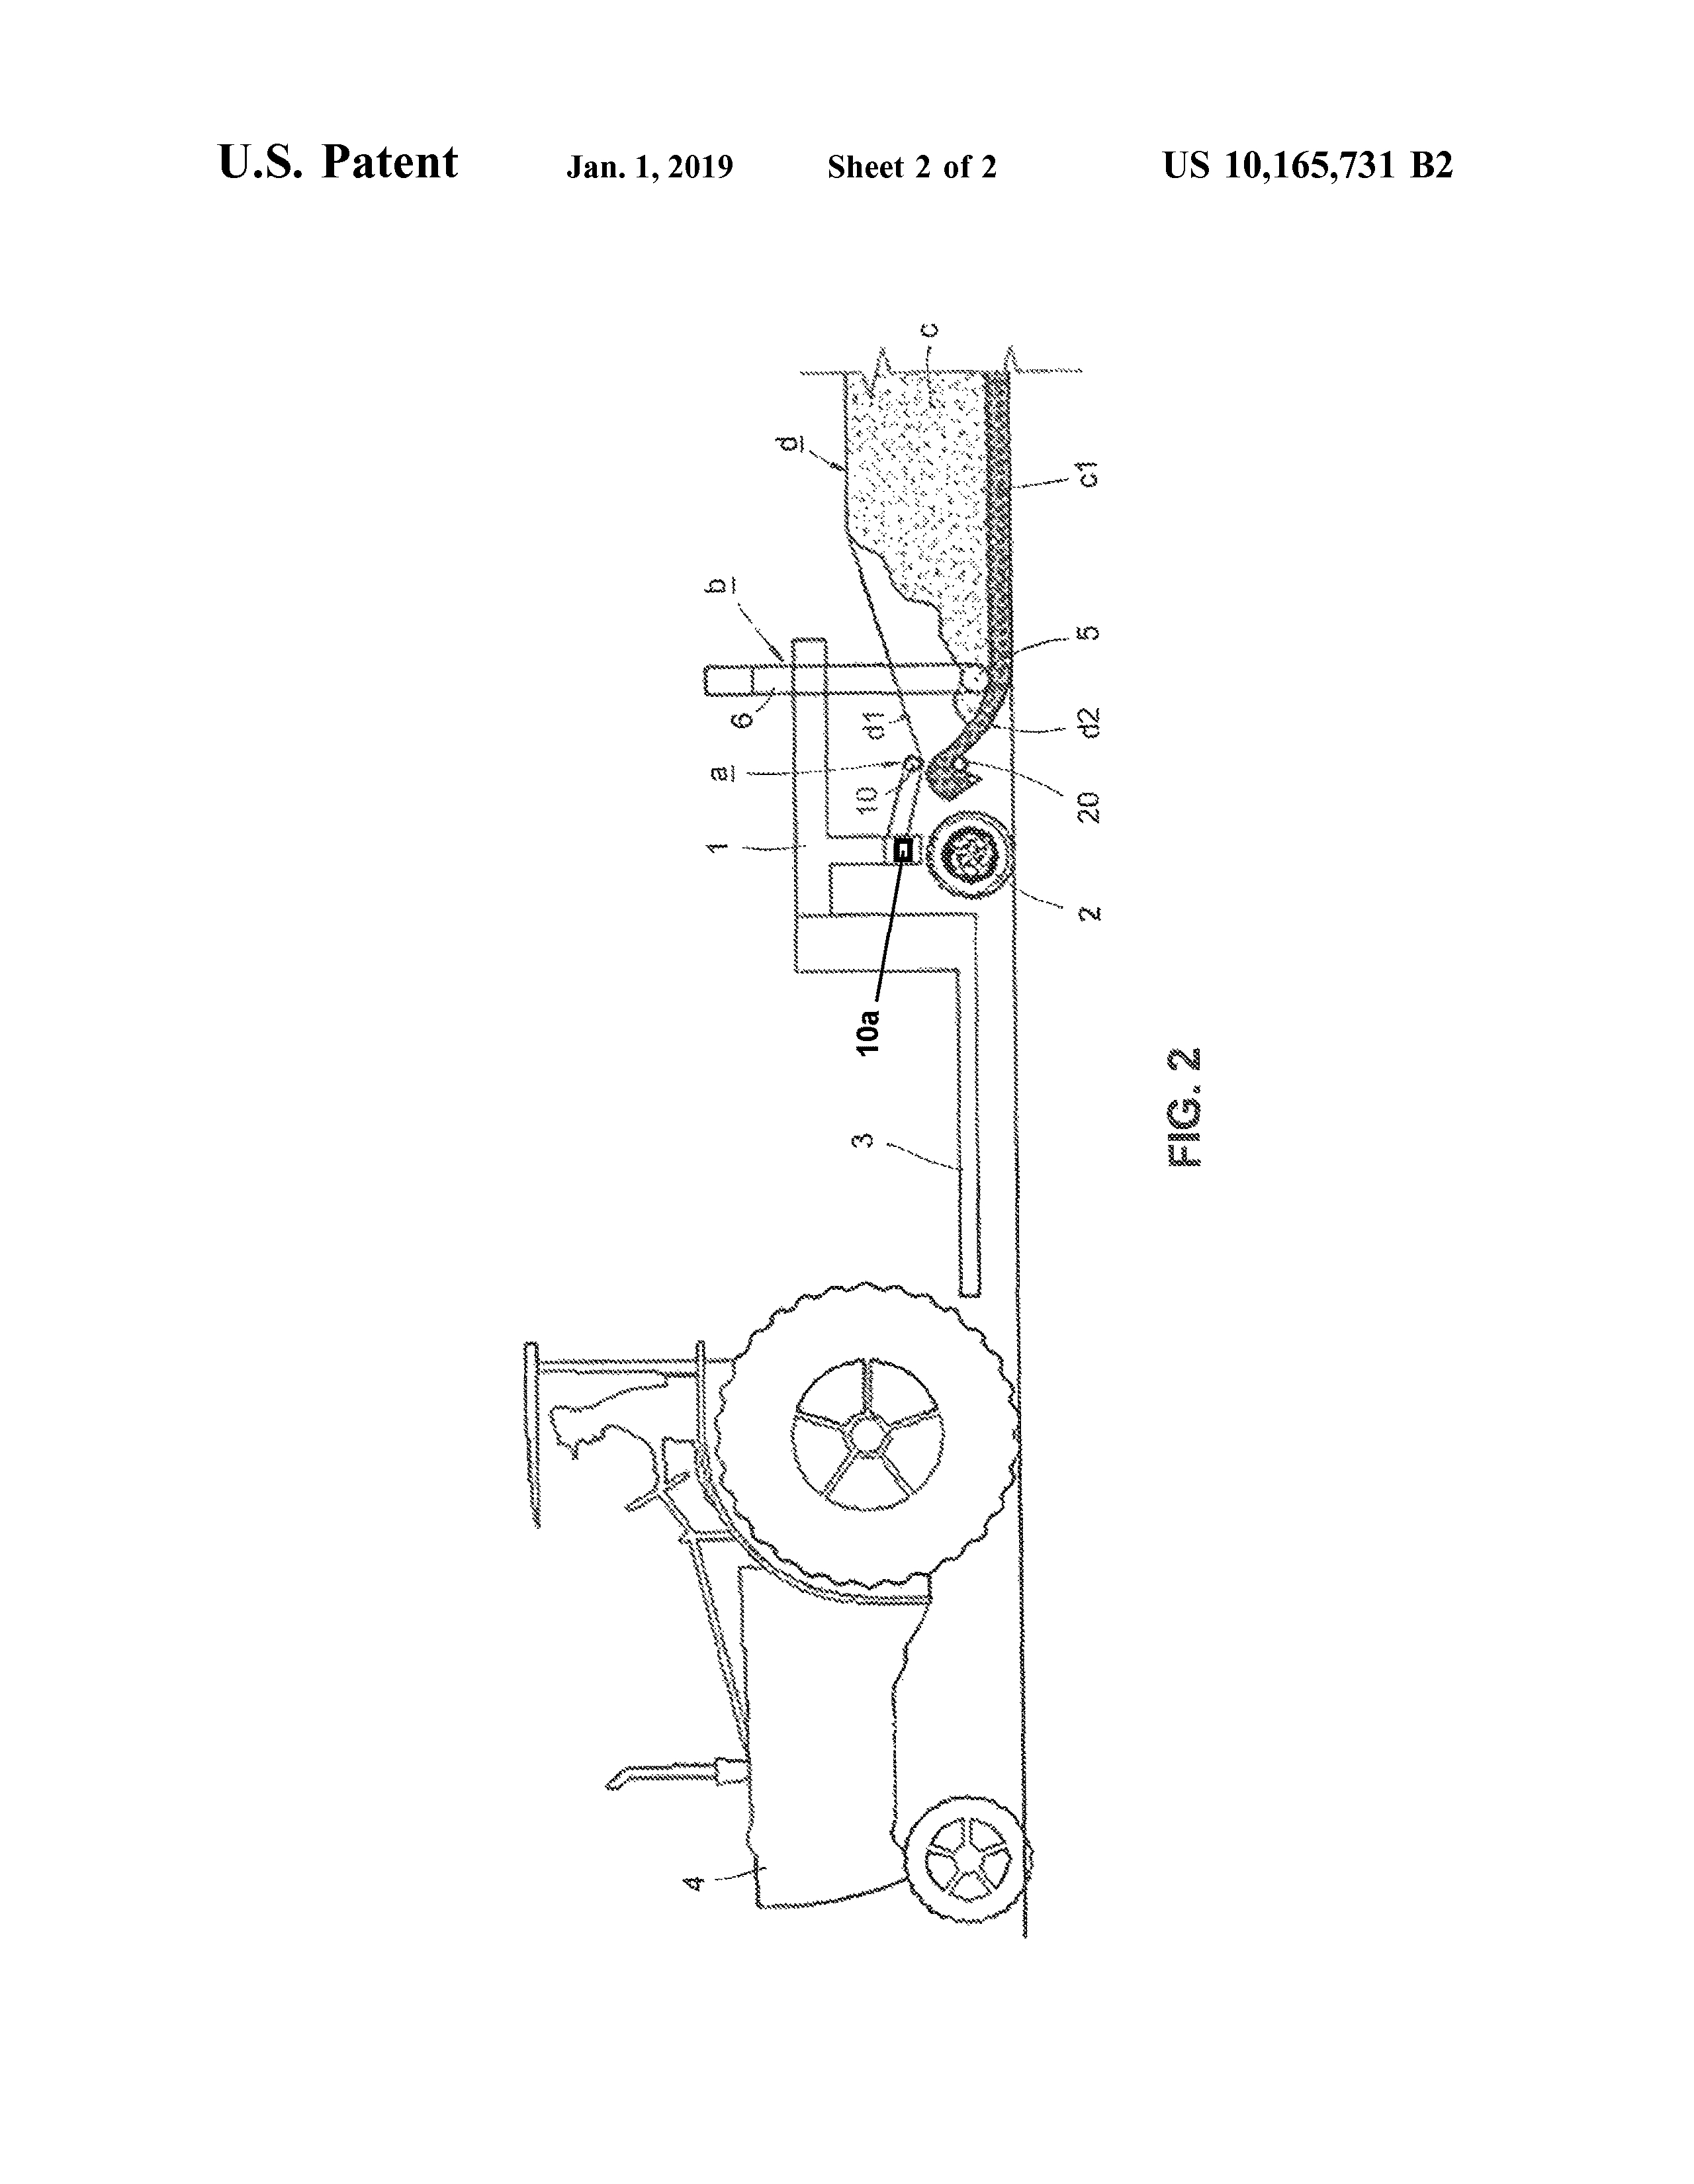patent image: (474, 308, 1369, 1971)
